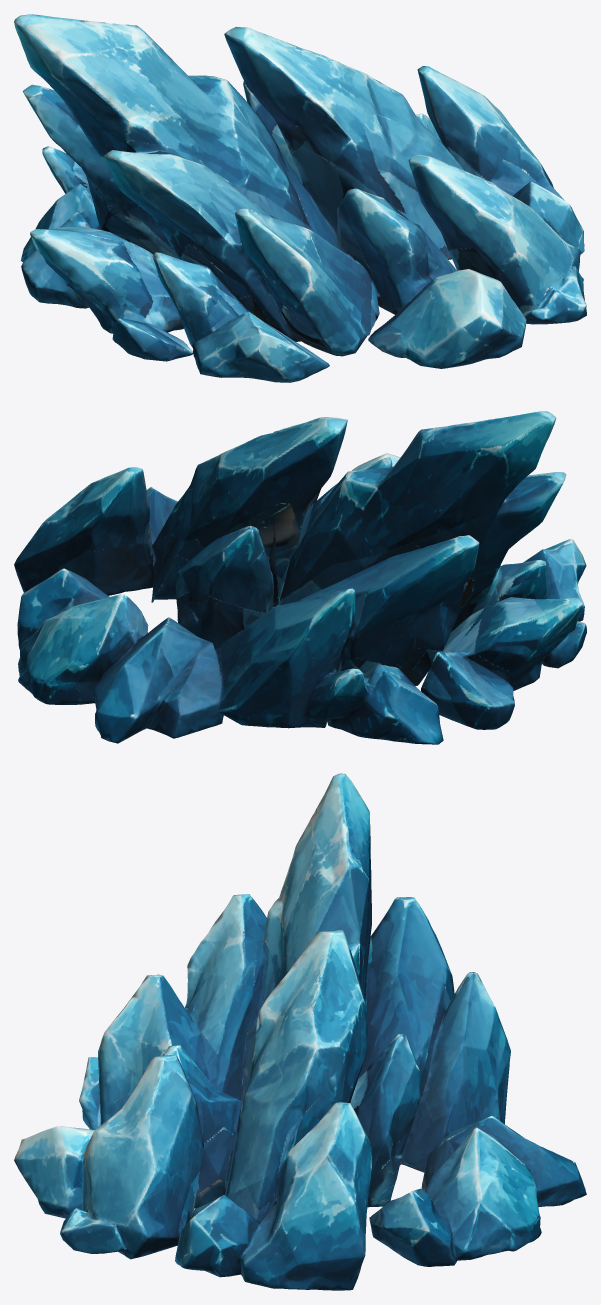
The model's file is IceSpike_04.fbx.
The picture shows the model from 3 angles, top to bottom: view 1: azimuth 30°, elevation 25°; view 2: azimuth 150°, elevation 25°; view 3: azimuth 270°, elevation 25°; orthographic projection. The views are drawn at different scales.
Visible parts, largest first — view 1: texture_mapping; view 2: texture_mapping; view 3: texture_mapping.
Part boxes in pixels (box(x1,y1,x2,y2)): texture_mapping: box(14, 14, 586, 382); texture_mapping: box(14, 411, 586, 744); texture_mapping: box(14, 773, 586, 1290).
Bounding box in the file's own units: 0.9895 × 0.9967 × 0.5486.
Materials: 1 (1 with a texture image).
